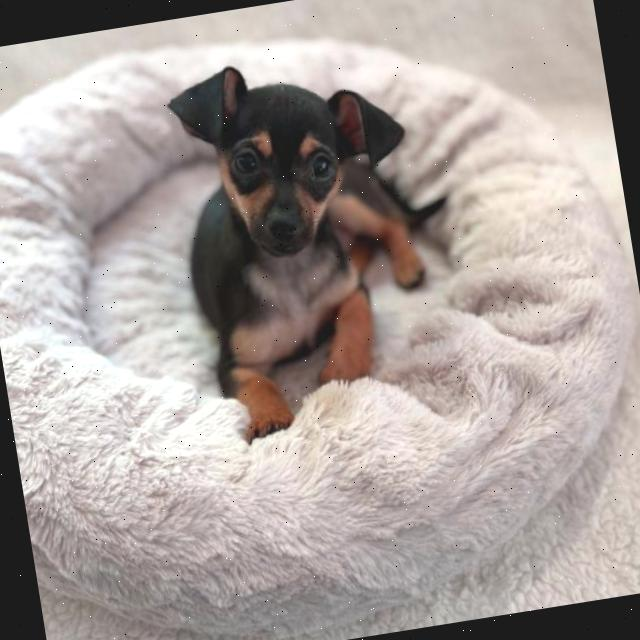chihuahua_dog: (156, 34, 432, 288)
